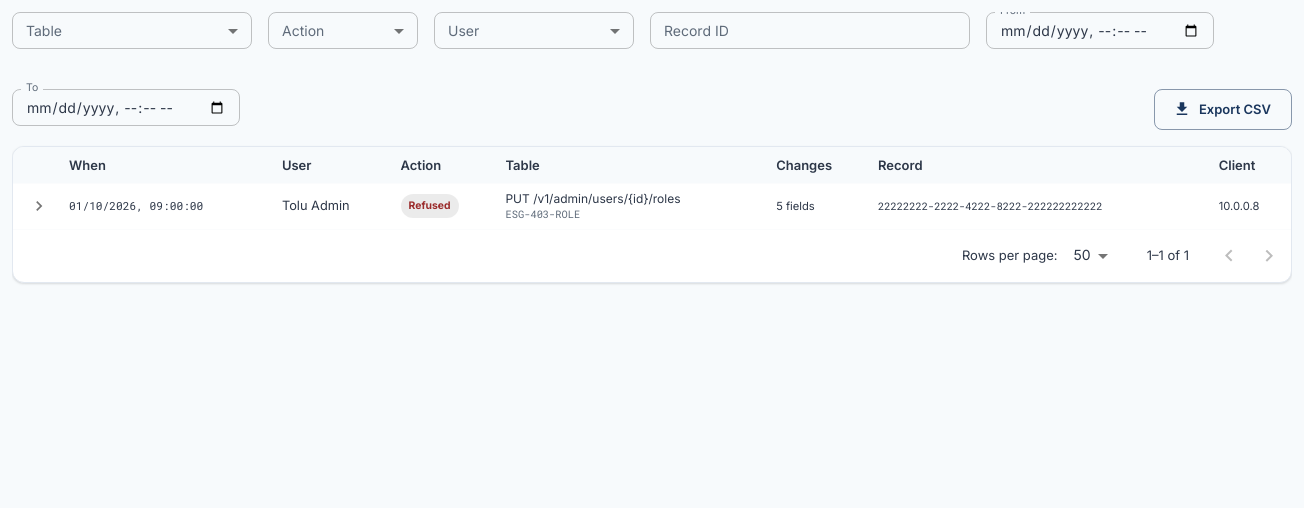
Scenario: AuditLogTab › shows refused actions with their error code and details (S3)
Expected: the text "Refused" is shown, [408, 199, 451, 212]
Expected: the text "ESG-403-ROLE" is shown, [506, 207, 580, 221]
Click the button named "Details for denied on PUT /v1/admin/users/{id}/roles". click: click(39, 206)
box: [29, 196, 49, 216]
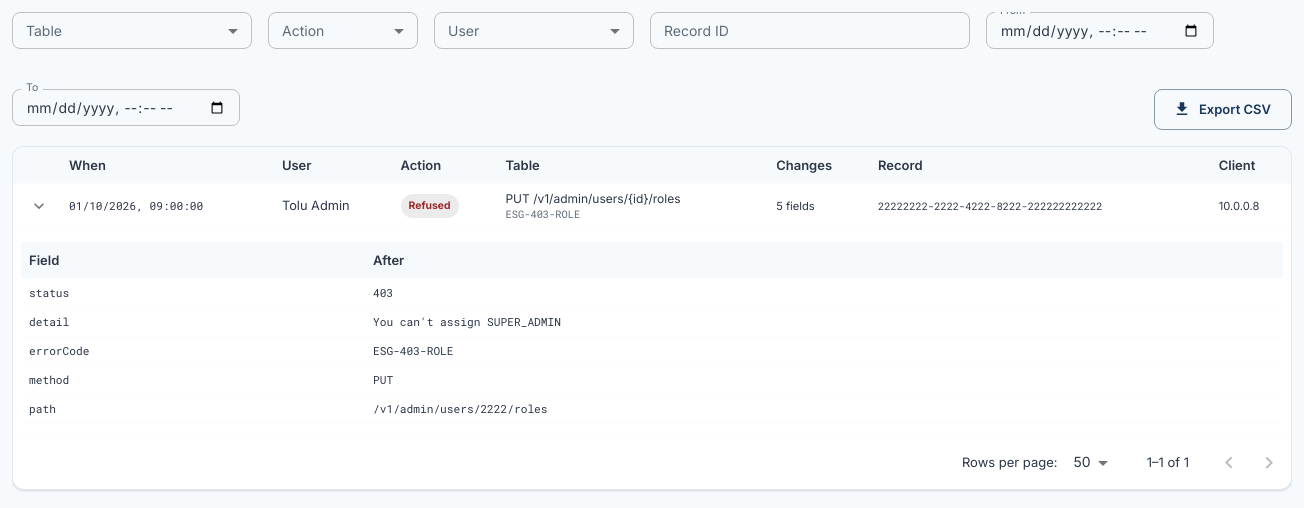
Now the text "You can't assign SUPER_ADMIN" is shown, box [365, 307, 1283, 336]
